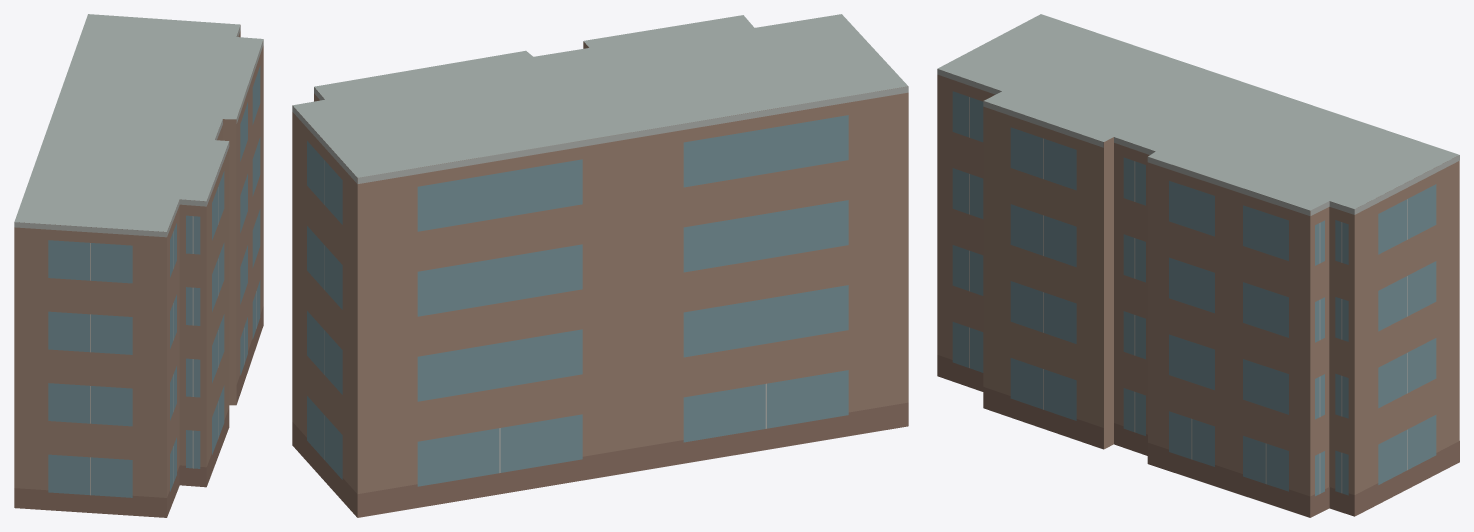
The model's file is survey-upis-32705064.glb.
The picture shows the model from 3 angles, left to right: view 1: azimuth 30°, elevation 25°; view 2: azimuth 150°, elevation 25°; view 3: azimuth 270°, elevation 25°; orthographic projection. The views are drawn at different scales.
Parts seen in each view (by area): view 1: survey-upis-32705064.tmp; view 2: survey-upis-32705064.tmp; view 3: survey-upis-32705064.tmp.
Boxes of the visible parts, bbox=[...] form: survey-upis-32705064.tmp: bbox=[14, 14, 263, 517]; survey-upis-32705064.tmp: bbox=[292, 14, 908, 517]; survey-upis-32705064.tmp: bbox=[937, 14, 1459, 517].
Bounding box in the file's own units: 17.97 × 13.1 × 20.19.
